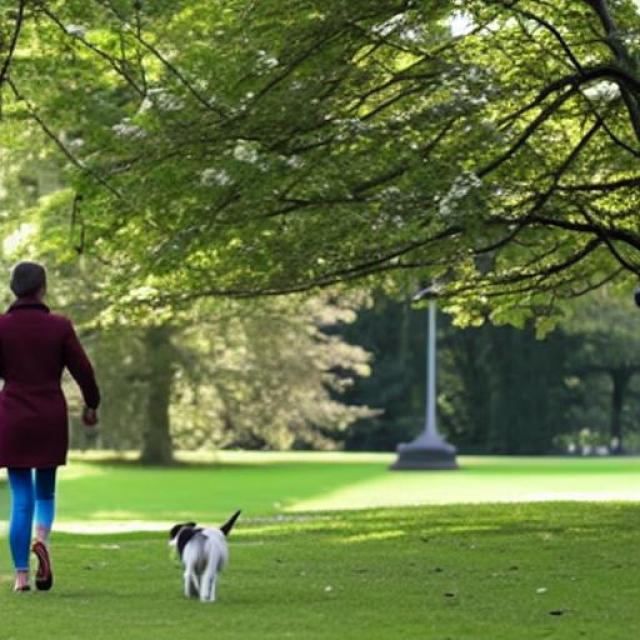Unleashed_Dog: (10, 393, 242, 603)
